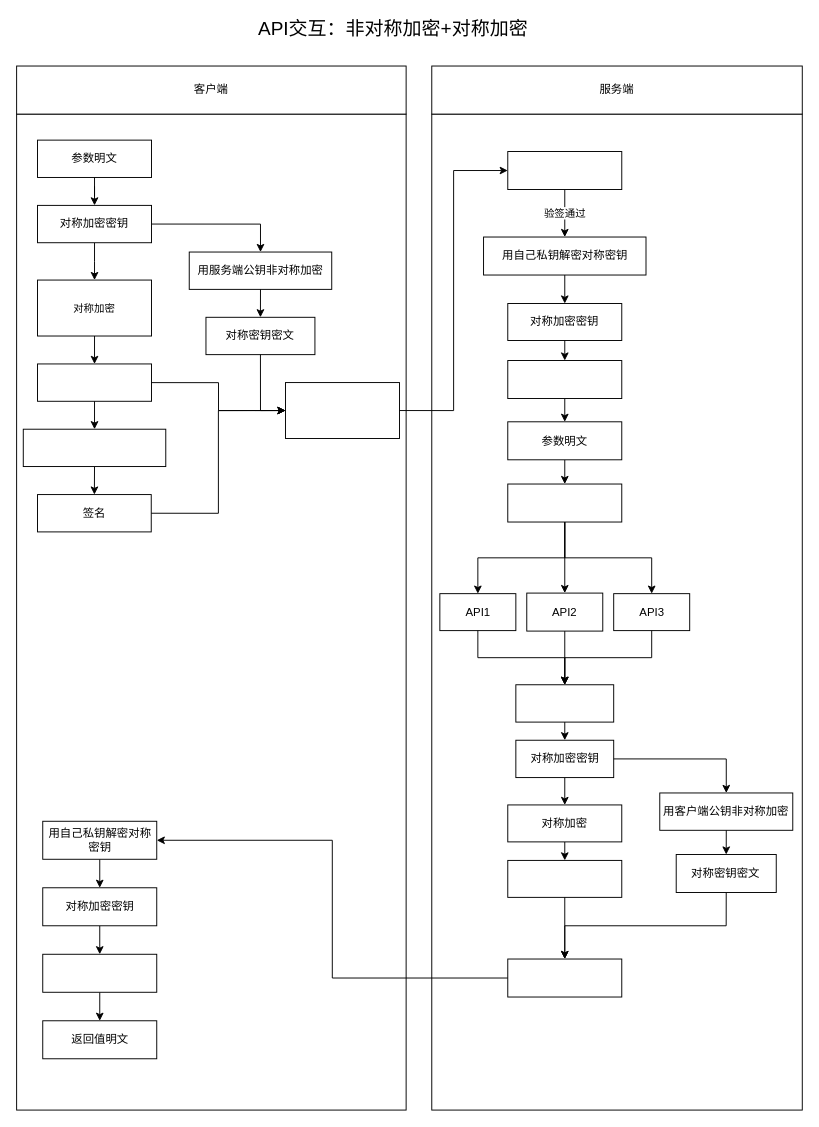
The diagram is 819 pixels wide and 1127 high, and some of its shapes have lost their labels. The shapes that lost their labels are listed below. From the top down, each one's box as (x1, y1, x2, y2) in pixels, then its label:
(507, 151, 622, 190): 用客户端公钥验签
(37, 363, 152, 401): 参数密文
(507, 360, 622, 399): 解密参数密文
(285, 382, 399, 439): 入参(参数密文+密钥密文+签名)
(22, 428, 166, 467): 用自己的私钥加签
(507, 483, 622, 522): 分发到指定API处理
(515, 684, 614, 722): 得到返回值
(507, 859, 622, 897): 返回值密文
(42, 953, 157, 992): 解密
(507, 958, 622, 997): 出参(返回值密文+对称密钥密文)
